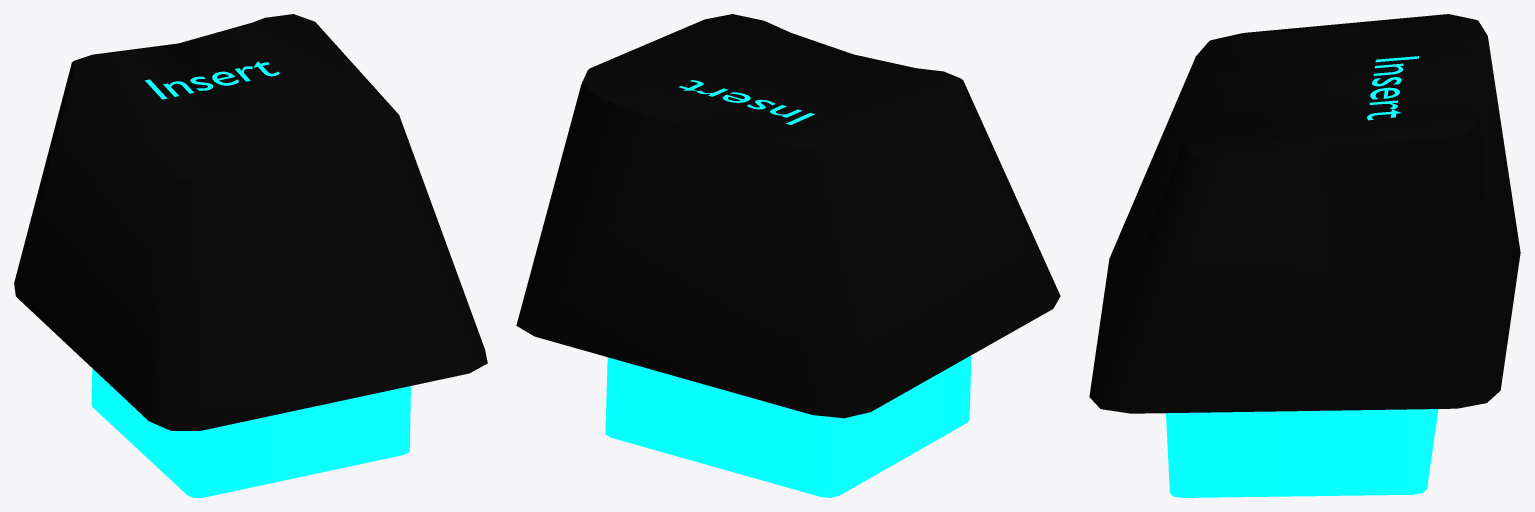
Rendered from key_insert-CtX4wDEU.glb.
The picture shows the model from 3 angles, left to right: view 1: azimuth 30°, elevation 25°; view 2: azimuth 150°, elevation 25°; view 3: azimuth 270°, elevation 25°; orthographic projection. The views are drawn at different scales.
Parts seen in each view (by area): view 1: StudyShelf_529; view 2: StudyShelf_529; view 3: StudyShelf_529.
Boxes of the visible parts, x1,y1,x2,y2 form: StudyShelf_529: (14,14,487,497); StudyShelf_529: (516,14,1060,497); StudyShelf_529: (1089,14,1520,497).
Bounding box in the file's own units: 4.35 × 4.14 × 4.35.
